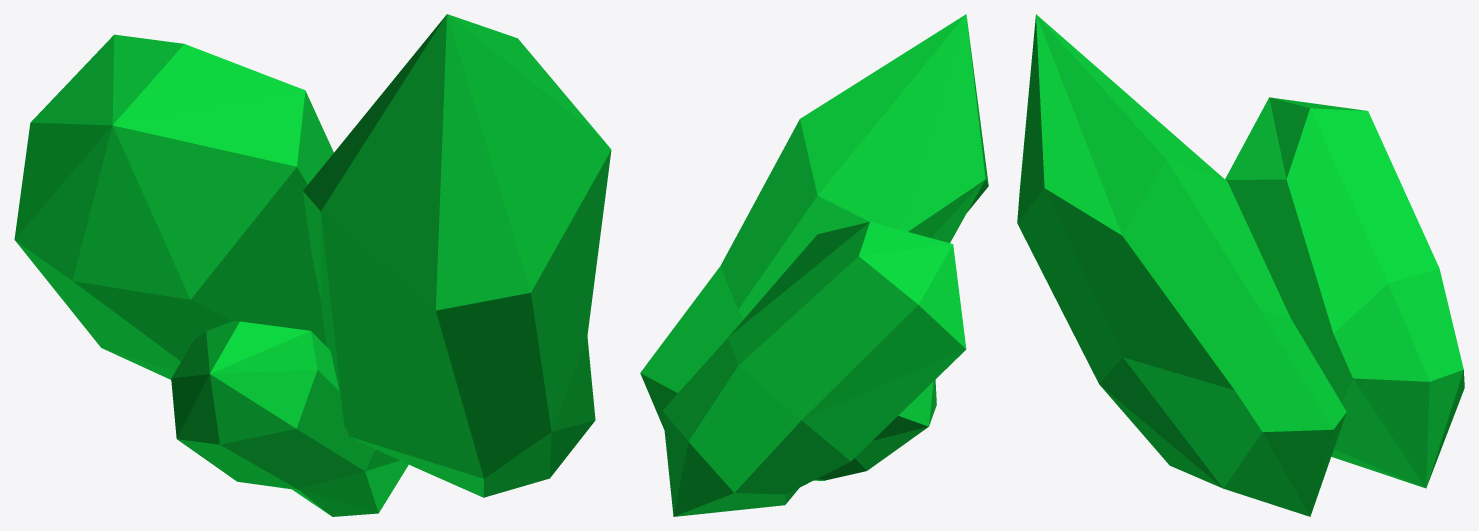
The model's file is ball crystal2.fbx.
3 views of the same model, side by side, from view 1: azimuth 30°, elevation 25°; view 2: azimuth 150°, elevation 25°; view 3: azimuth 270°, elevation 25° (orthographic). The views are drawn at different scales.
Parts seen in each view (by area): view 1: ball crystal2; view 2: ball crystal2; view 3: ball crystal2.
Boxes of the visible parts, x1=… form: ball crystal2: x1=14, y1=14, x2=611, y2=516; ball crystal2: x1=640, y1=14, x2=988, y2=516; ball crystal2: x1=1017, y1=14, x2=1464, y2=516.
Size of the model in its own units: 30.75 by 36 by 34.58.
